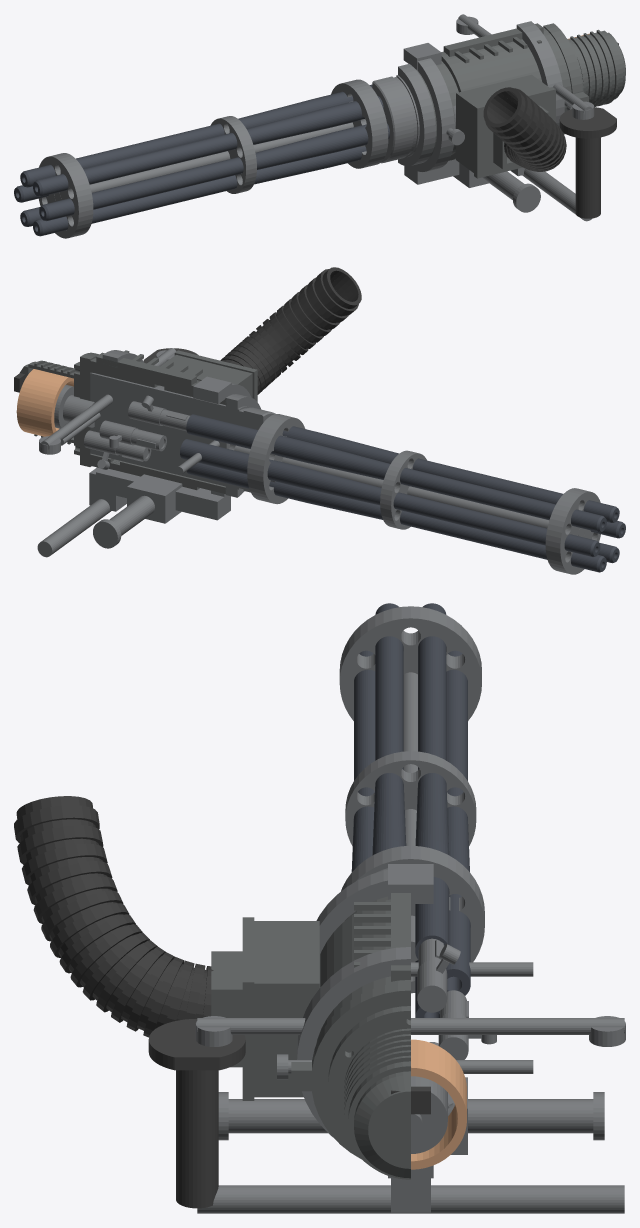
File: drone-vykhor7-cut.glb
The picture shows the model from 3 angles, top to bottom: view 1: azimuth 30°, elevation 25°; view 2: azimuth 150°, elevation 25°; view 3: azimuth 270°, elevation 25°; orthographic projection. The views are drawn at different scales.
Parts seen in each view (by area): view 1: barrel_l2, barrel_l1, housing_cover, feed_chute_flex, barrel_l3, barrel_r1, spade_l_grip, motor_can, rotor, barrel_clamp_muzzle, barrel_clamp_rear, feeder_housing (+15 smaller); view 2: feed_chute_flex, barrel_r1, barrel_r2, rotor, barrel_r3, barrel_l1, cradle_beam, motor_stator, barrel_clamp_muzzle, barrel_clamp_rear, barrel_spindle, housing_cover (+19 smaller); view 3: feed_chute_flex, handle_bar, spade_l_grip, trunnion_pin, feeder_housing, barrel_r1, barrel_clamp_muzzle, butterfly_trigger, barrel_l1, housing_cover, barrel_r2, rear_gun_support (+18 smaller).
Boxes of the visible parts, x1=… form: barrel_l2: x1=39, y1=123, x2=389, y2=221; barrel_l1: x1=33, y1=96, x2=383, y2=196; housing_cover: x1=441, y1=23, x2=571, y2=160; feed_chute_flex: x1=483, y1=87, x2=566, y2=171; barrel_l3: x1=33, y1=146, x2=366, y2=236; barrel_r1: x1=20, y1=84, x2=372, y2=187; spade_l_grip: x1=559, y1=107, x2=616, y2=218; motor_can: x1=567, y1=29, x2=622, y2=107; rotor: x1=372, y1=75, x2=455, y2=163; barrel_clamp_muzzle: x1=39, y1=153, x2=93, y2=238; barrel_clamp_rear: x1=331, y1=79, x2=388, y2=168; feeder_housing: x1=456, y1=74, x2=548, y2=172; feed_chute_flex: x1=220, y1=267, x2=361, y2=394; barrel_r1: x1=186, y1=414, x2=606, y2=532; barrel_r2: x1=180, y1=439, x2=600, y2=556; rotor: x1=90, y1=373, x2=275, y2=492; barrel_r3: x1=186, y1=462, x2=606, y2=572; barrel_l1: x1=282, y1=426, x2=619, y2=522; cradle_beam: x1=96, y1=468, x2=230, y2=523; motor_stator: x1=16, y1=369, x2=73, y2=436; barrel_clamp_muzzle: x1=545, y1=488, x2=600, y2=574; barrel_clamp_rear: x1=247, y1=414, x2=305, y2=504; barrel_spindle: x1=234, y1=445, x2=584, y2=537; housing_cover: x1=90, y1=350, x2=202, y2=490; feed_chute_flex: x1=14, y1=796, x2=213, y2=1037; handle_bar: x1=197, y1=1185, x2=624, y2=1213; spade_l_grip: x1=148, y1=1019, x2=245, y2=1208; trunnion_pin: x1=218, y1=1092, x2=604, y2=1140; feeder_housing: x1=254, y1=921, x2=319, y2=1097; barrel_r1: x1=415, y1=603, x2=449, y2=959; barrel_clamp_muzzle: x1=339, y1=606, x2=481, y2=720; butterfly_trigger: x1=195, y1=1016, x2=625, y2=1046; barrel_l1: x1=372, y1=603, x2=406, y2=855; housing_cover: x1=316, y1=893, x2=410, y2=1043; barrel_r2: x1=446, y1=650, x2=470, y2=995; rear_gun_support: x1=291, y1=982, x2=410, y2=1159.
Size of the model in its own units: 0.801 by 0.2493 by 0.4296.
